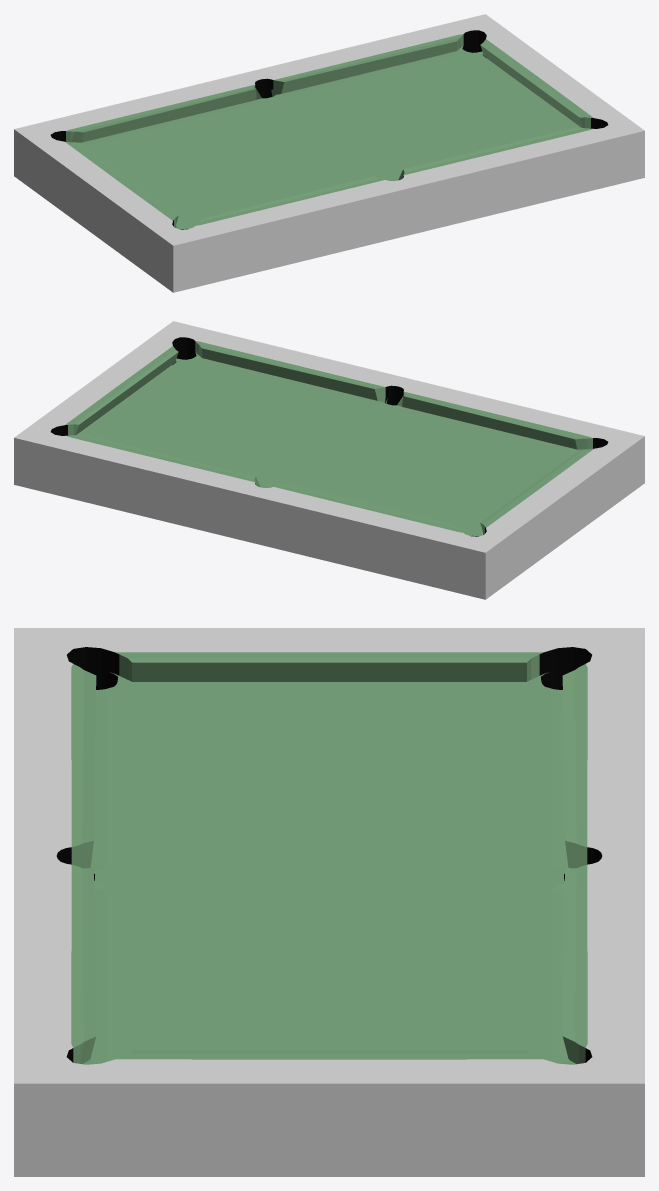
Rendered from old_pool.fbx.
3 renders of one model, top to bottom at view 1: azimuth 30°, elevation 25°; view 2: azimuth 150°, elevation 25°; view 3: azimuth 270°, elevation 25°, orthographic. The views are drawn at different scales.
Visible parts, largest first — view 1: Cube.outside, Cube.floor, Cube.wall, Cube.hole; view 2: Cube.outside, Cube.floor, Cube.wall, Cube.hole; view 3: Cube.floor, Cube.outside, Cube.wall, Cube.hole.
Boxes of the visible parts, box(x1,y1,x2,y2) form: Cube.outside: box(14, 14, 644, 292); Cube.floor: box(80, 45, 583, 229); Cube.wall: box(65, 34, 594, 227); Cube.hole: box(50, 30, 608, 229); Cube.outside: box(14, 321, 644, 599); Cube.floor: box(75, 352, 578, 536); Cube.wall: box(64, 341, 593, 534); Cube.hole: box(50, 337, 608, 536); Cube.floor: box(89, 672, 569, 1063); Cube.outside: box(14, 628, 644, 1176); Cube.wall: box(71, 652, 587, 1064); Cube.hole: box(56, 647, 602, 1062).
Size of the model in its own units: 419 by 40.69 by 246.
